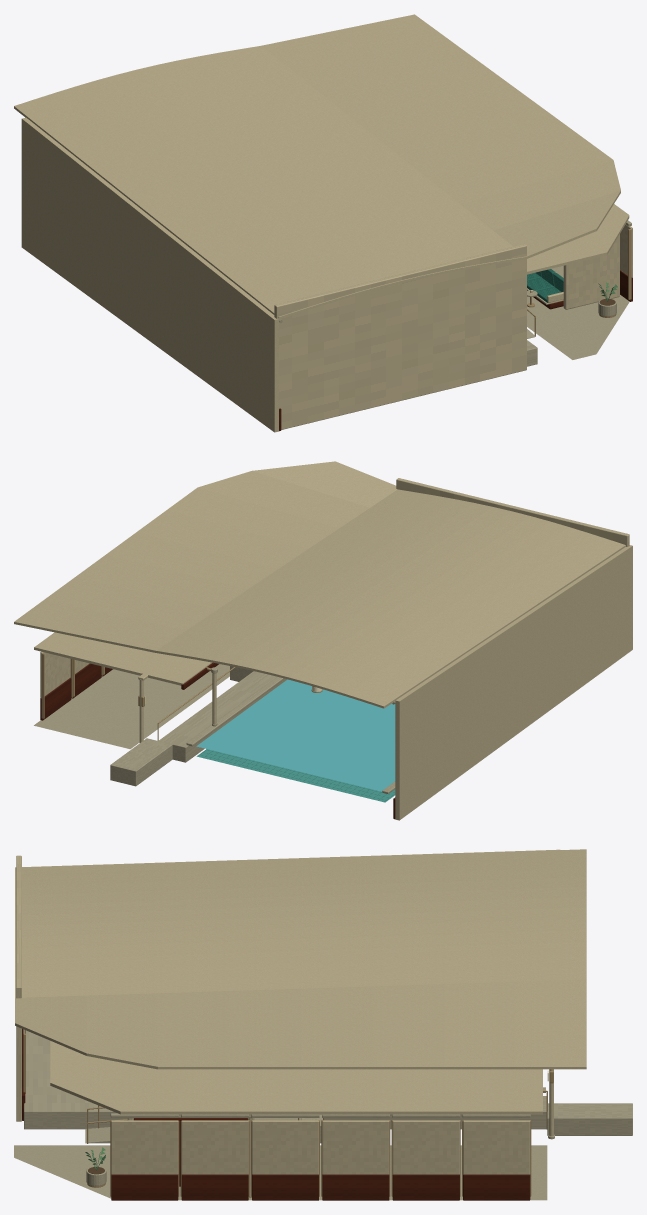
Rendered from Group6TidalNorthRoom_r004.glb.
3 views of the same model, one above another, from view 1: azimuth 30°, elevation 25°; view 2: azimuth 150°, elevation 25°; view 3: azimuth 270°, elevation 25° (orthographic). The views are drawn at different scales.
Visible parts, largest first — view 1: G6_TIDAL__north_room_return, G6_TIDAL__vault_infill_0, G6_TIDAL__vault_infill_2, G6_TIDAL__vault_infill_4, G6_TIDAL__vault_infill_3, G6_TIDAL__vault_infill_1, G6_TIDAL__vault_infill_5, G6_TIDAL__vault_infill_6, G6_TIDAL__west_room_return_0, G6_TIDAL__west_room_return_1, G6_TIDAL__west_room_return_3, G6_TIDAL__west_room_return_2 (+12 smaller); view 2: G6_TIDAL__water_face, G6_TIDAL__west_room_return_0, G6_TIDAL__dry_floor_finish, G6_TIDAL__vault_infill_0, G6_TIDAL__west_room_return_1, G6_TIDAL__west_room_return_2, G6_TIDAL__vault_infill_1, G6_TIDAL__vault_infill_2, G6_TIDAL__vault_infill_5, G6_TIDAL__vault_infill_6, G6_TIDAL__vault_infill_3, G6_TIDAL__vault_infill_4 (+19 smaller); view 3: G6_TIDAL__vault_infill_0, G6_TIDAL__vault_infill_6, G6_TIDAL__vault_infill_4, G6_TIDAL__vault_infill_3, G6_TIDAL__vault_infill_1, G6_TIDAL__vault_infill_2, G6_TIDAL__vault_infill_5, G6_TIDAL__vault_infill_7, G6_TIDAL__east_roof_infill_0, G6_TIDAL__east_roof_infill_1, G6_TIDAL__east_roof_infill_2, G6_TIDAL__east_roof_infill_3 (+29 smaller).
Part boxes in pixels (box(x1,y1,x2,y2)): G6_TIDAL__north_room_return: box(274, 244, 526, 429); G6_TIDAL__vault_infill_0: box(14, 46, 293, 133); G6_TIDAL__vault_infill_2: box(80, 98, 359, 186); G6_TIDAL__vault_infill_4: box(146, 151, 426, 239); G6_TIDAL__vault_infill_3: box(113, 125, 392, 212); G6_TIDAL__vault_infill_1: box(47, 72, 326, 160); G6_TIDAL__vault_infill_5: box(179, 177, 459, 265); G6_TIDAL__vault_infill_6: box(212, 204, 492, 292); G6_TIDAL__west_room_return_0: box(21, 117, 88, 293); G6_TIDAL__west_room_return_1: box(85, 168, 152, 339); G6_TIDAL__west_room_return_3: box(211, 268, 278, 432); G6_TIDAL__west_room_return_2: box(148, 218, 215, 385); G6_TIDAL__water_face: box(196, 679, 395, 791); G6_TIDAL__west_room_return_0: box(395, 661, 457, 820); G6_TIDAL__dry_floor_finish: box(34, 664, 229, 749); G6_TIDAL__vault_infill_0: box(156, 630, 414, 708); G6_TIDAL__west_room_return_1: box(454, 622, 516, 777); G6_TIDAL__west_room_return_2: box(512, 583, 574, 734); G6_TIDAL__vault_infill_1: box(187, 610, 445, 687); G6_TIDAL__vault_infill_2: box(217, 589, 475, 666); G6_TIDAL__vault_infill_5: box(309, 528, 567, 605); G6_TIDAL__vault_infill_6: box(340, 508, 598, 585); G6_TIDAL__vault_infill_3: box(248, 569, 506, 646); G6_TIDAL__vault_infill_4: box(279, 548, 536, 625); G6_TIDAL__vault_infill_0: box(515, 849, 586, 981); G6_TIDAL__vault_infill_6: box(86, 863, 157, 995); G6_TIDAL__vault_infill_4: box(229, 858, 300, 990); G6_TIDAL__vault_infill_3: box(301, 856, 372, 988); G6_TIDAL__vault_infill_1: box(444, 851, 515, 983); G6_TIDAL__vault_infill_2: box(372, 854, 443, 986); G6_TIDAL__vault_infill_5: box(158, 861, 229, 993); G6_TIDAL__vault_infill_7: box(15, 865, 86, 997); G6_TIDAL__east_roof_infill_0: box(515, 979, 586, 1069); G6_TIDAL__east_roof_infill_1: box(444, 981, 515, 1069); G6_TIDAL__east_roof_infill_2: box(372, 984, 443, 1069); G6_TIDAL__east_roof_infill_3: box(301, 986, 372, 1069).
Bounding box in the file's own units: 22.95 × 7.46 × 28.15.
10 materials, 5 textured.
